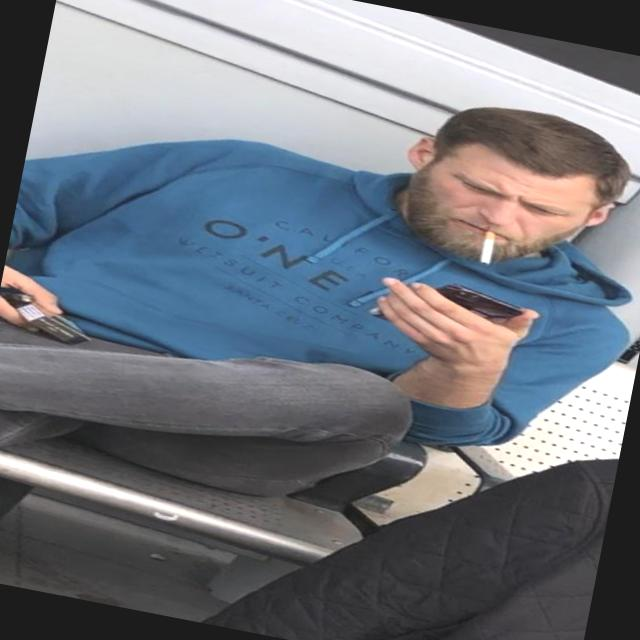smoke: (470, 220, 508, 271)
